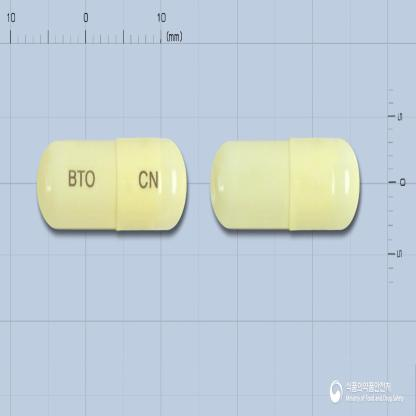pill: (35, 135, 188, 232), (209, 138, 362, 232)
